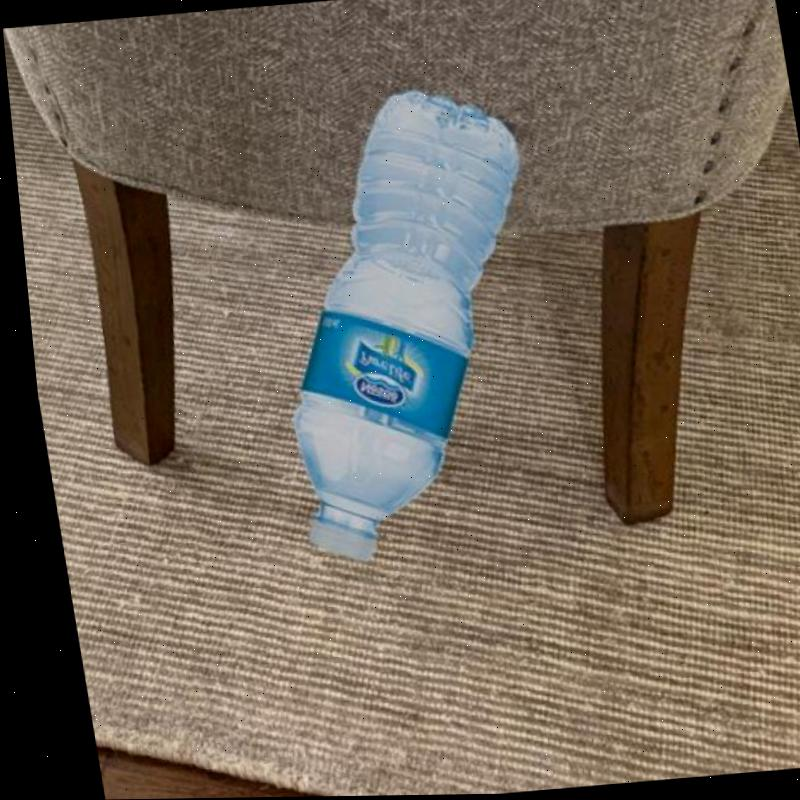botella: (230, 80, 573, 564)
